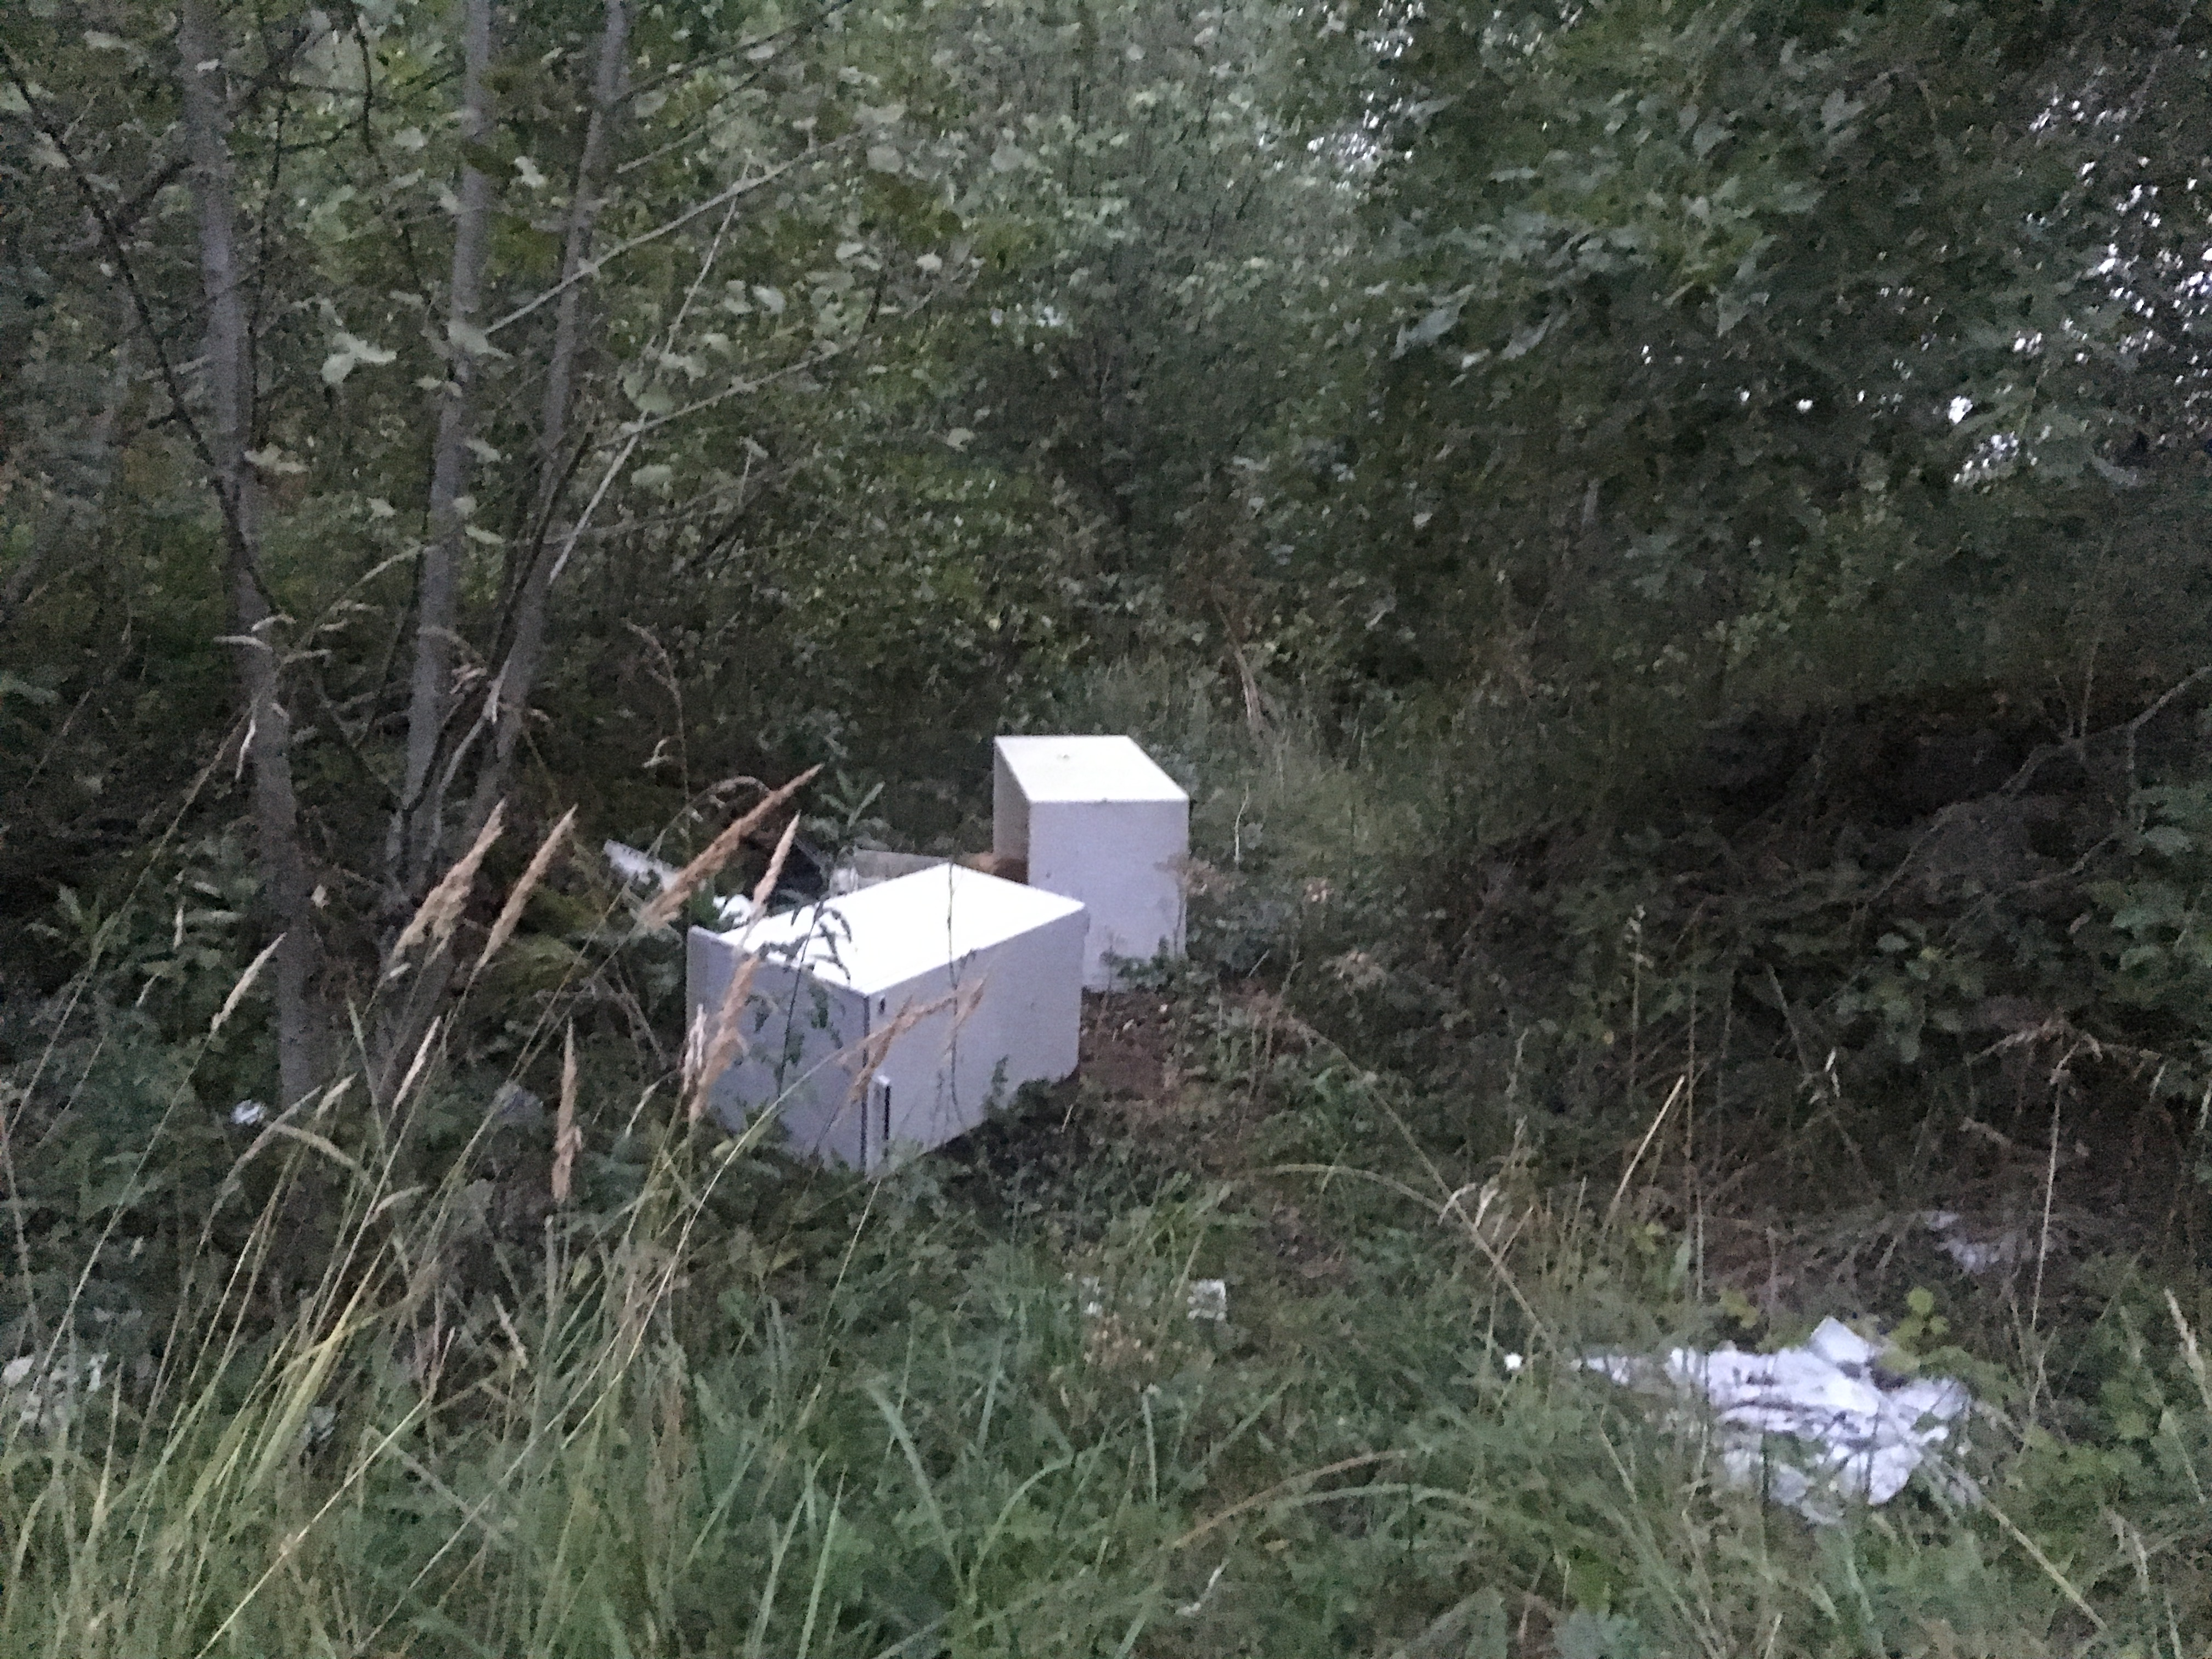trash: (570, 671, 1224, 1208), (1460, 1265, 2043, 1506)
